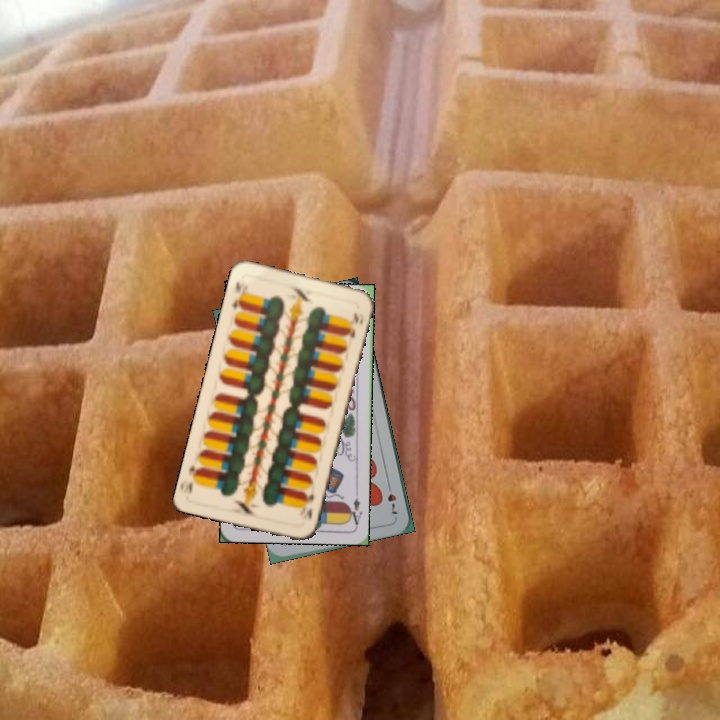E10: (228, 277, 246, 312), (302, 488, 316, 523)
EA: (344, 488, 364, 528)
H7: (383, 479, 400, 518)
